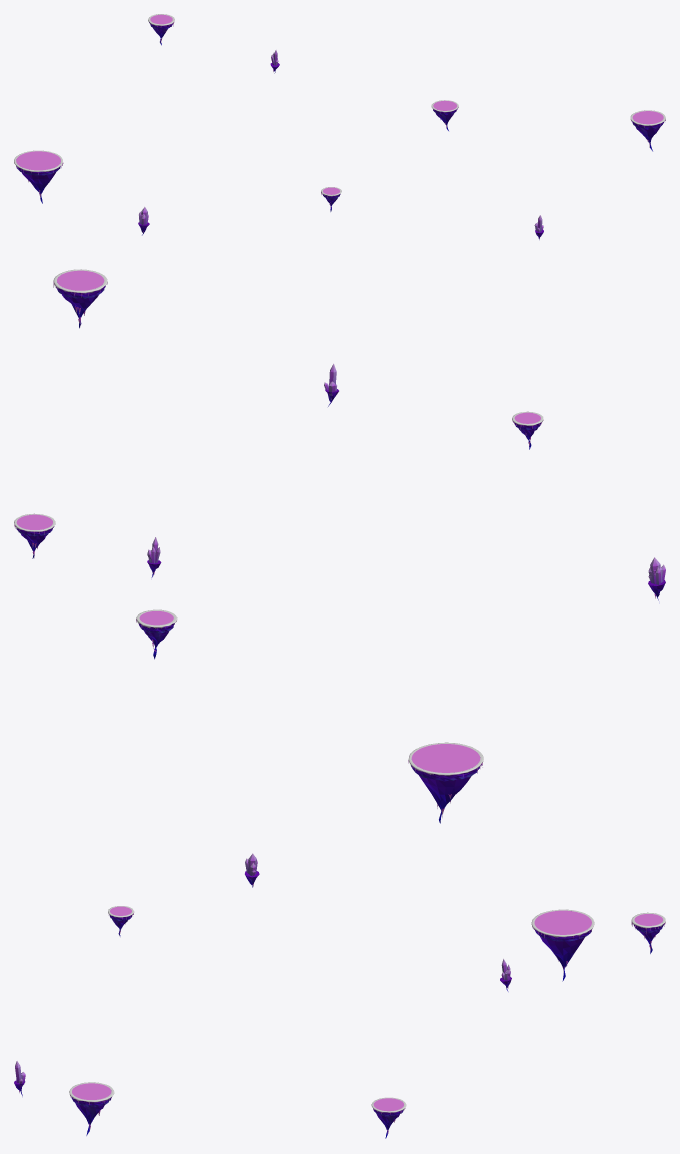
The model's file is Arena_Backdrop.fbx.
The picture shows the model from 3 angles, top to bottom: view 1: azimuth 30°, elevation 25°; view 2: azimuth 150°, elevation 25°; view 3: azimuth 270°, elevation 25°; orthographic projection. The views are drawn at different scales.
Visible parts, largest first — view 1: Floe_B_2, Floe_A_6, Floe_A_0, Floe_C_7; view 2: Floe_B_2, Floe_A_6, Floe_C_7, Floe_A_0; view 3: Floe_B_2, Floe_A_6, Floe_A_0, Floe_C_7.
Boxes of the visible parts, x1,y1,x2,y2 form: Floe_B_2: (14,150,63,203); Floe_A_6: (630,110,665,151); Floe_A_0: (431,100,458,130); Floe_C_7: (148,14,174,45); Floe_B_2: (408,742,483,823); Floe_A_6: (53,269,107,328); Floe_C_7: (136,609,177,659); Floe_A_0: (14,513,55,558); Floe_B_2: (531,909,594,981); Floe_A_6: (69,1082,114,1135); Floe_A_0: (371,1097,406,1138); Floe_C_7: (631,912,665,953).
Bounding box in the file's own units: 129 × 32.91 × 124.
